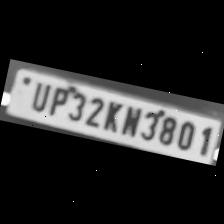0: (172, 116, 198, 152)
1: (190, 120, 215, 157)
2: (80, 94, 106, 128)
3: (62, 87, 87, 123), (136, 106, 161, 142)
8: (154, 111, 180, 148)
K: (98, 96, 123, 132)
N: (116, 101, 142, 138)
P: (44, 82, 68, 118)
U: (24, 76, 50, 112)
